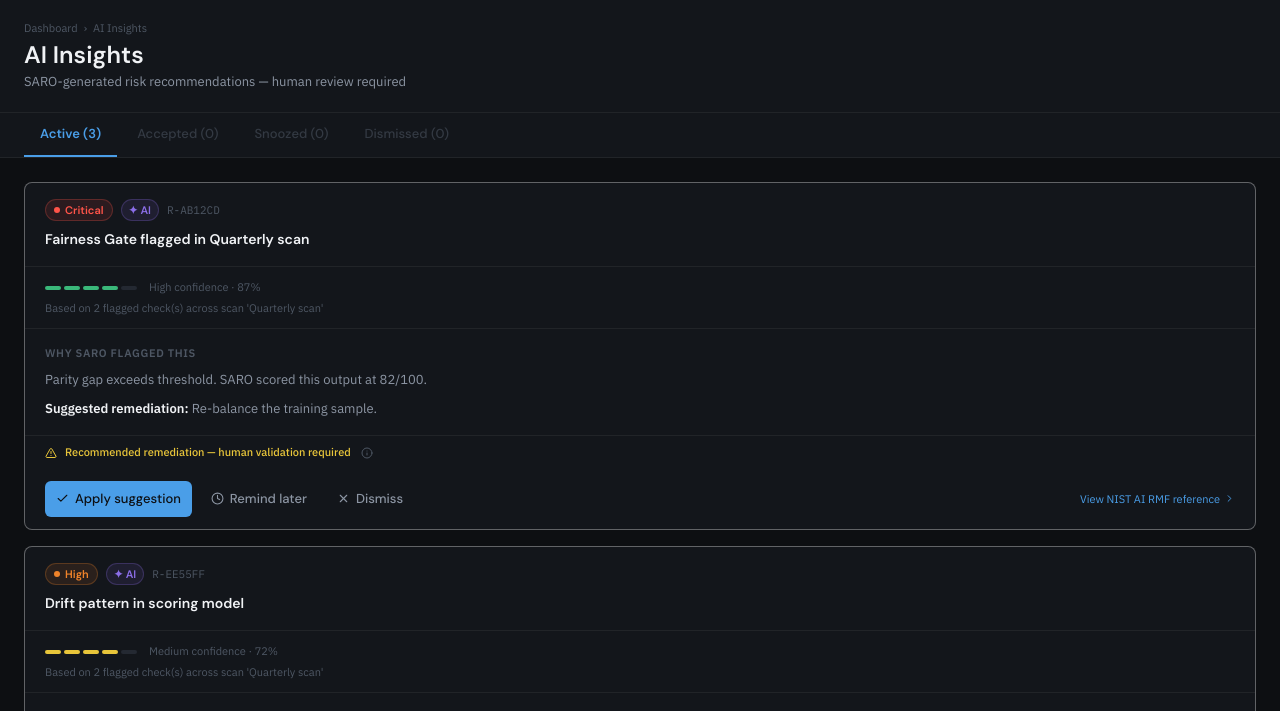
Test: STORY-004 — human validation framing › AC-2: the explainer is available on interaction (test_disclaimer_tooltip_on_hover)
The width and height of the screenshot is (1280, 711).
Expected: the heading "Fairness Gate flagged in Quarterly scan" is shown, [45,230,309,248]
Click the button named "why is human review required". click: (367, 453)
box: [359,445,375,461]
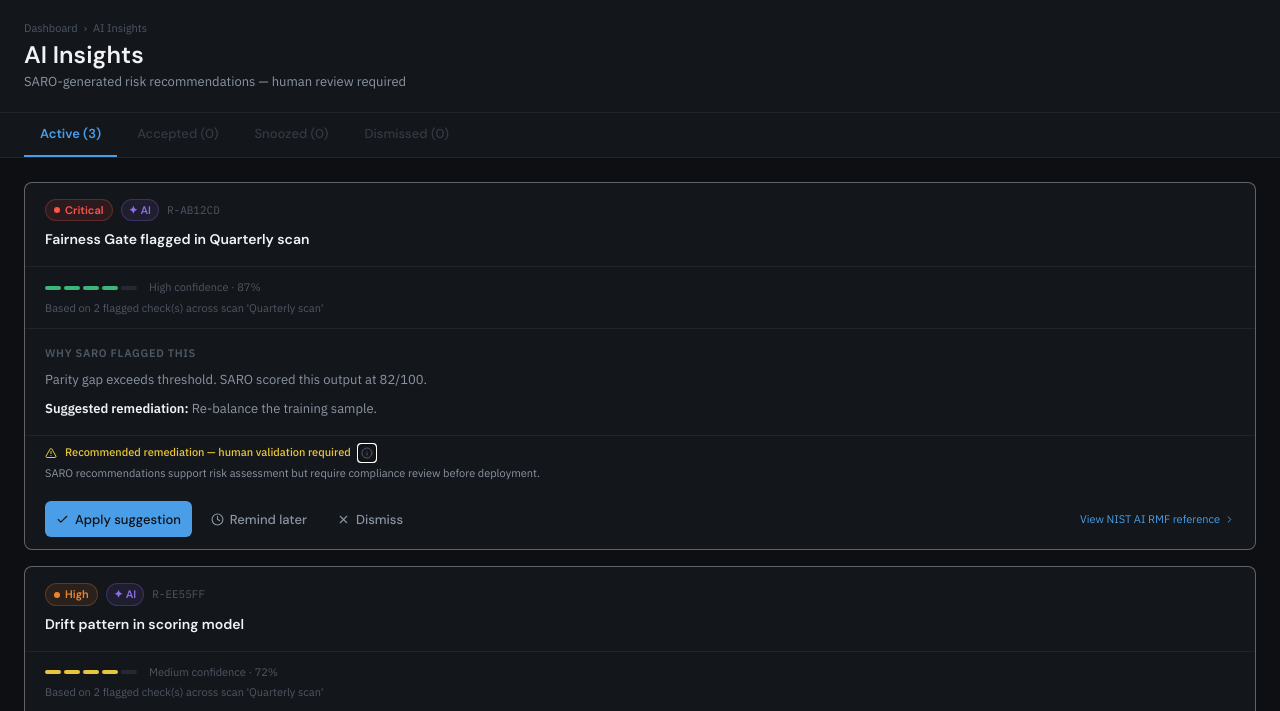
Now the text "require compliance review before deployment" is shown, box [45,466,540,480]
